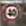limite 40: (3, 4, 20, 21)
